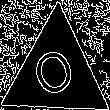O_SE: (29, 39, 83, 105)
